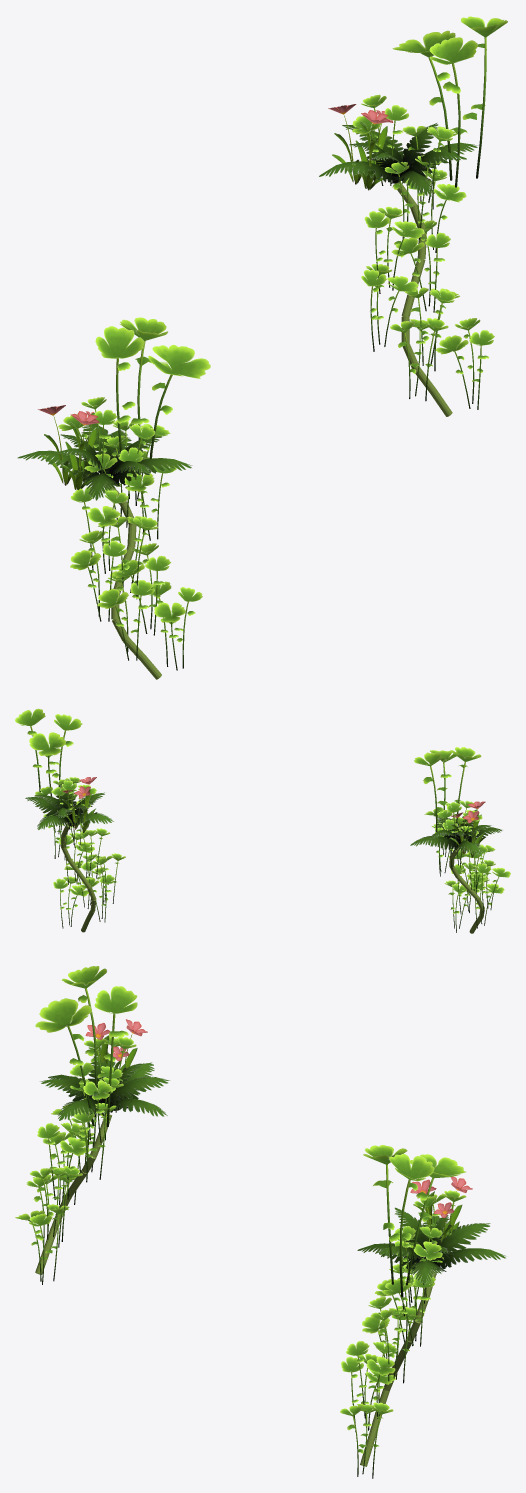
Rendered from Collapsed_Solar_Panel_Greenery.glb.
The picture shows the model from 3 angles, top to bottom: view 1: azimuth 30°, elevation 25°; view 2: azimuth 150°, elevation 25°; view 3: azimuth 270°, elevation 25°; orthographic projection. The views are drawn at different scales.
Visible parts, largest first — view 1: Patch_00, Patch_02, Patch_01, Patch_03; view 2: Patch_02, Patch_00, Patch_03, Patch_01; view 3: Patch_02, Patch_00, Patch_03, Patch_01.
Boxes of the visible parts, bbox=[...] form: Patch_00: bbox=[17, 317, 210, 679]; Patch_02: bbox=[319, 16, 507, 416]; Patch_01: bbox=[38, 405, 99, 490]; Patch_03: bbox=[328, 104, 392, 190]; Patch_02: bbox=[15, 708, 125, 932]; Patch_00: bbox=[410, 747, 510, 933]; Patch_03: bbox=[62, 777, 97, 832]; Patch_01: bbox=[450, 801, 485, 857]; Patch_02: bbox=[340, 1145, 506, 1478]; Patch_00: bbox=[15, 966, 170, 1284]; Patch_03: bbox=[410, 1176, 472, 1251]; Patch_01: bbox=[85, 1019, 147, 1095].
Bounding box in the file's own units: 2.57 × 1.5 × 1.92.
5 materials, 4 textured.
